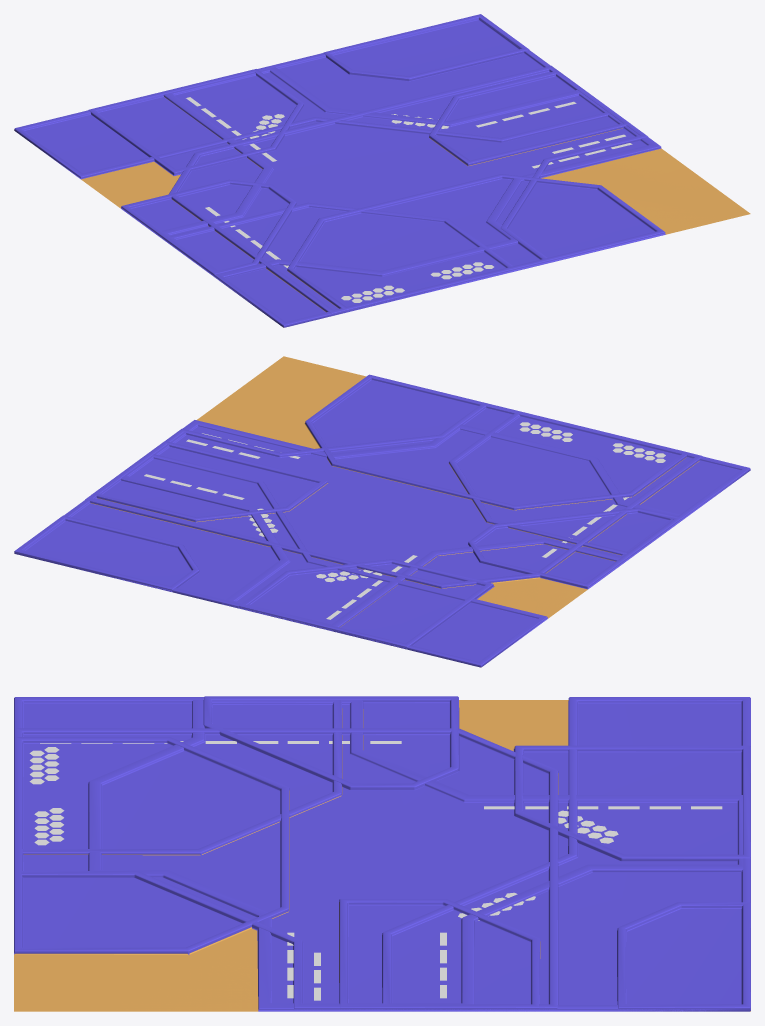
Rendered from TerrainTiles.fbx.
3 views of the same model, one above another, from view 1: azimuth 30°, elevation 25°; view 2: azimuth 150°, elevation 25°; view 3: azimuth 270°, elevation 25° (orthographic). The views are drawn at different scales.
Parts seen in each view (by area): view 1: Tile2, Tile3, Tile4, Tile1; view 2: Tile2, Tile4, Tile3, Tile1; view 3: Tile2, Tile4, Tile3, Tile1.
Part boxes in pixels (x1,y1,x2,y2): Tile2: (84, 14, 746, 312); Tile3: (95, 65, 745, 315); Tile4: (14, 18, 750, 327); Tile1: (81, 67, 749, 279); Tile2: (14, 359, 688, 648); Tile4: (14, 356, 750, 667); Tile3: (85, 357, 702, 615); Tile1: (121, 356, 685, 630); Tile2: (14, 696, 750, 1011); Tile4: (14, 697, 750, 1011); Tile3: (14, 700, 567, 1011); Tile1: (14, 700, 750, 1011).
Size of the model in its own units: 2000 by 12.21 by 2000.
